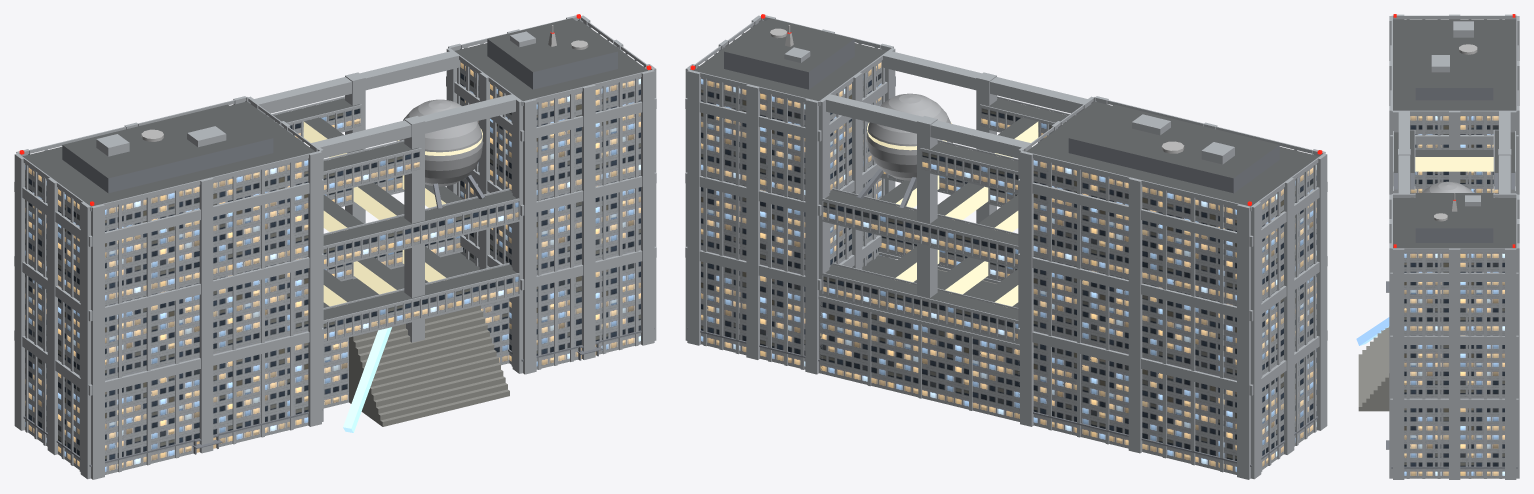
Rendered from fuji_tv_building.glb.
The picture shows the model from 3 angles, left to right: view 1: azimuth 30°, elevation 25°; view 2: azimuth 150°, elevation 25°; view 3: azimuth 270°, elevation 25°; orthographic projection. The views are drawn at different scales.
Visible parts, largest first — view 1: fuji_tv_building; view 2: fuji_tv_building; view 3: fuji_tv_building.
Part boxes in pixels (left/top/right/bottom): fuji_tv_building: left=14, top=14, right=656, bottom=479; fuji_tv_building: left=685, top=14, right=1327, bottom=479; fuji_tv_building: left=1356, top=14, right=1519, bottom=479.
Bounding box in the file's own units: 240 × 123 × 70.5.
Materials: 2 (2 with a texture image).
